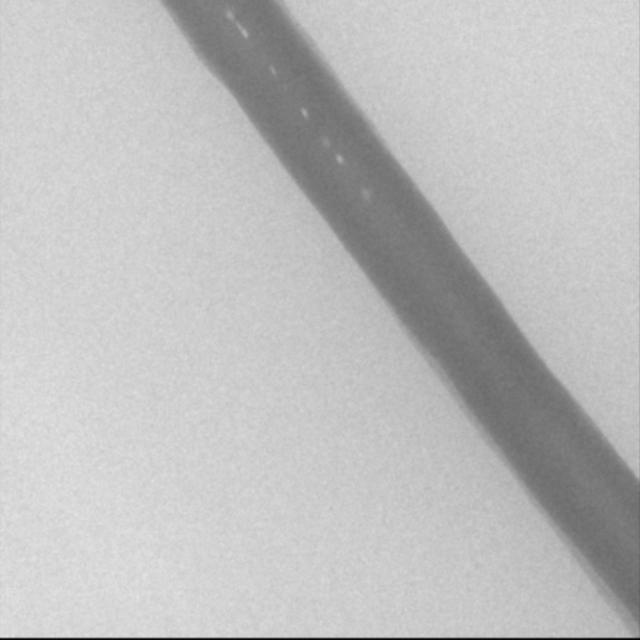air hole: (238, 23, 251, 40), (267, 62, 278, 77), (333, 152, 344, 166), (224, 10, 235, 22), (299, 107, 309, 119)
